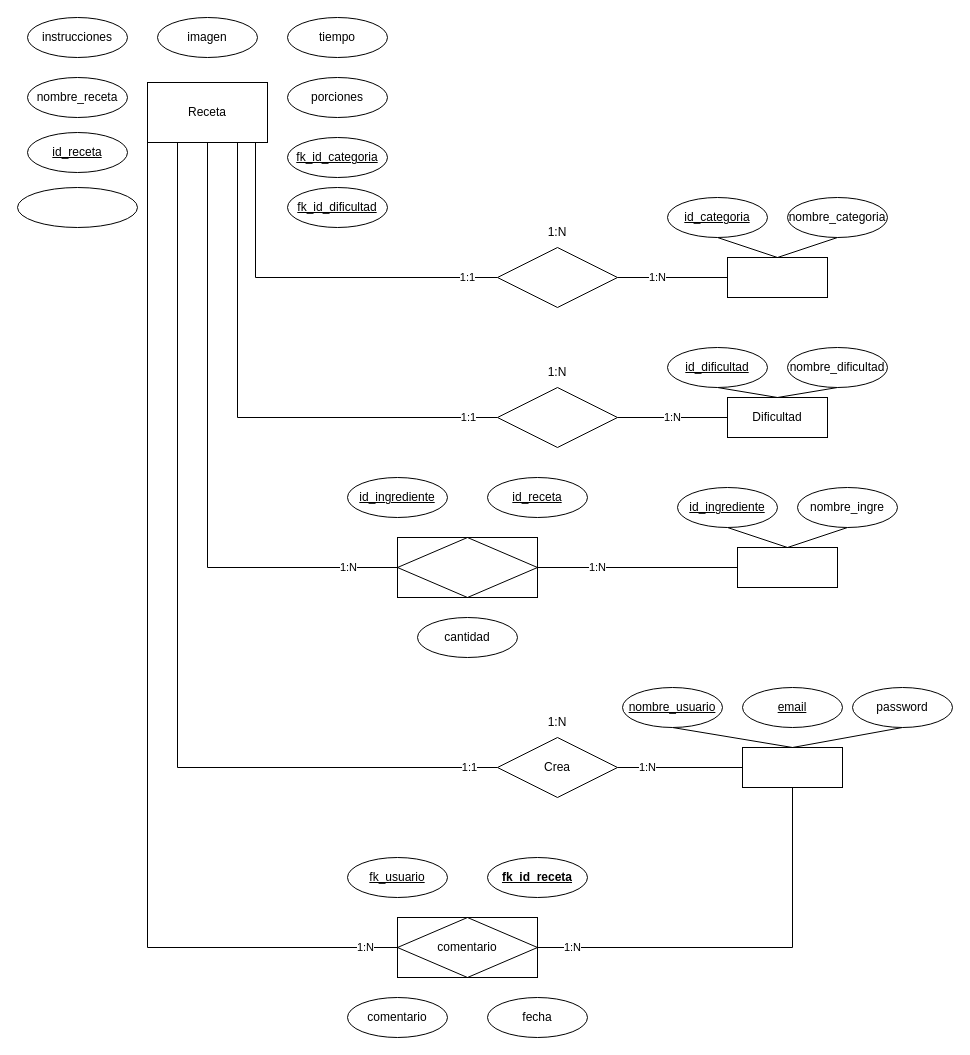
This 970x1055 diagram has some shape labels left out. The shapes that lost their labels are listed below. From the top down, each one's box as (x1, y1, x2, y2) in pixels, then its label:
(16, 186, 138, 228): fk_nombre_usuario
(496, 246, 618, 308): Pertenece
(726, 256, 828, 298): Categoría
(496, 386, 618, 448): Tiene
(396, 536, 538, 598): lista_ingredientes
(736, 546, 838, 588): Ingrediente
(742, 746, 842, 788): Usuario
